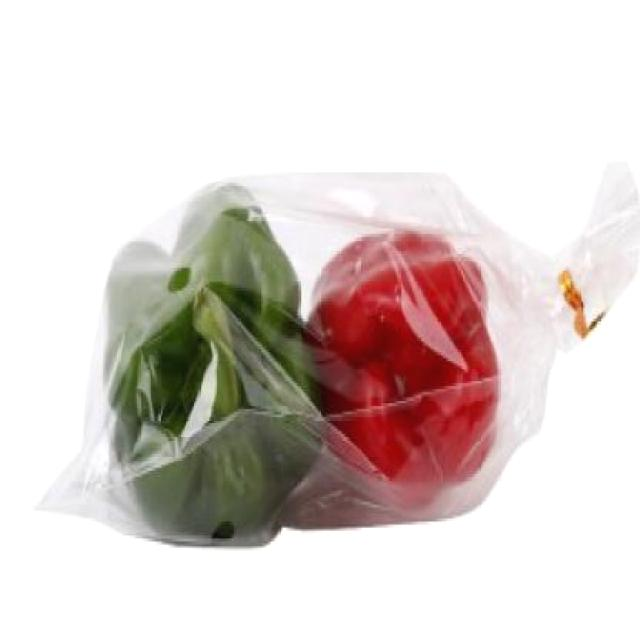Bell Pepper: (43, 122, 619, 542)
